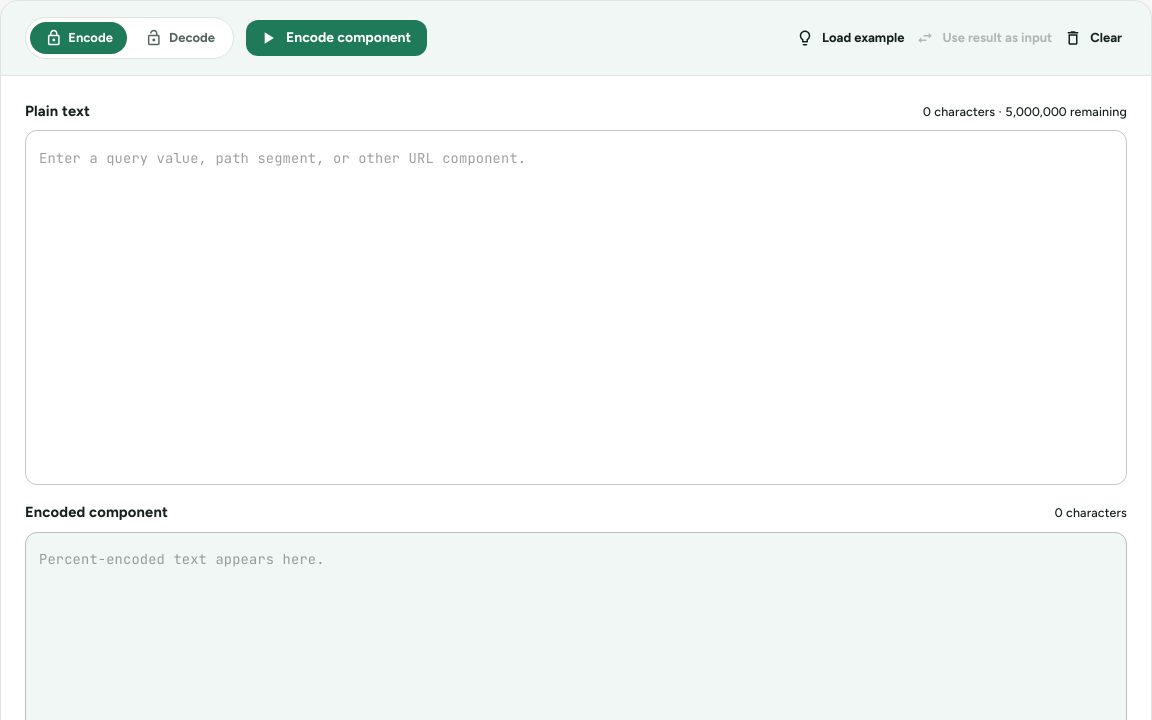
Scenario: UrlEncoderDecoderTool › decodes a result after reversing direction
Type "a/b" into the text box labelled "Plain text". click: coordinates (576, 308)
box: [39,147,1113,469]
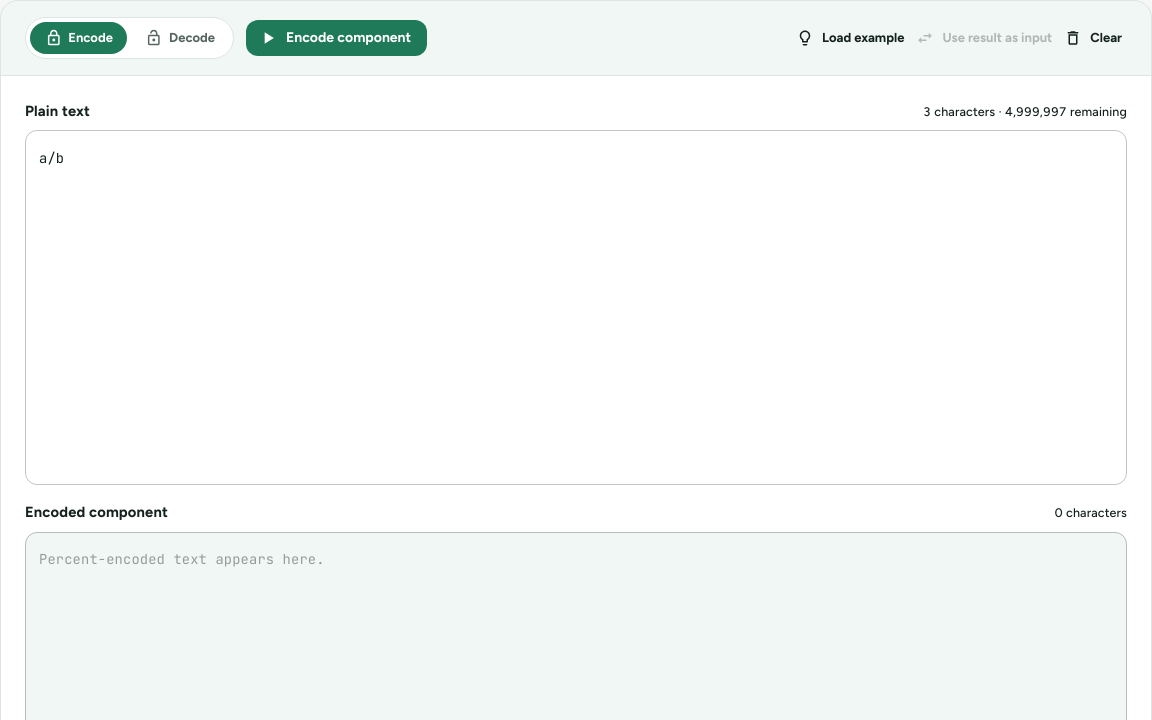
Click the button "Encode component". click: coordinates (337, 38)
box: [246,20,427,56]
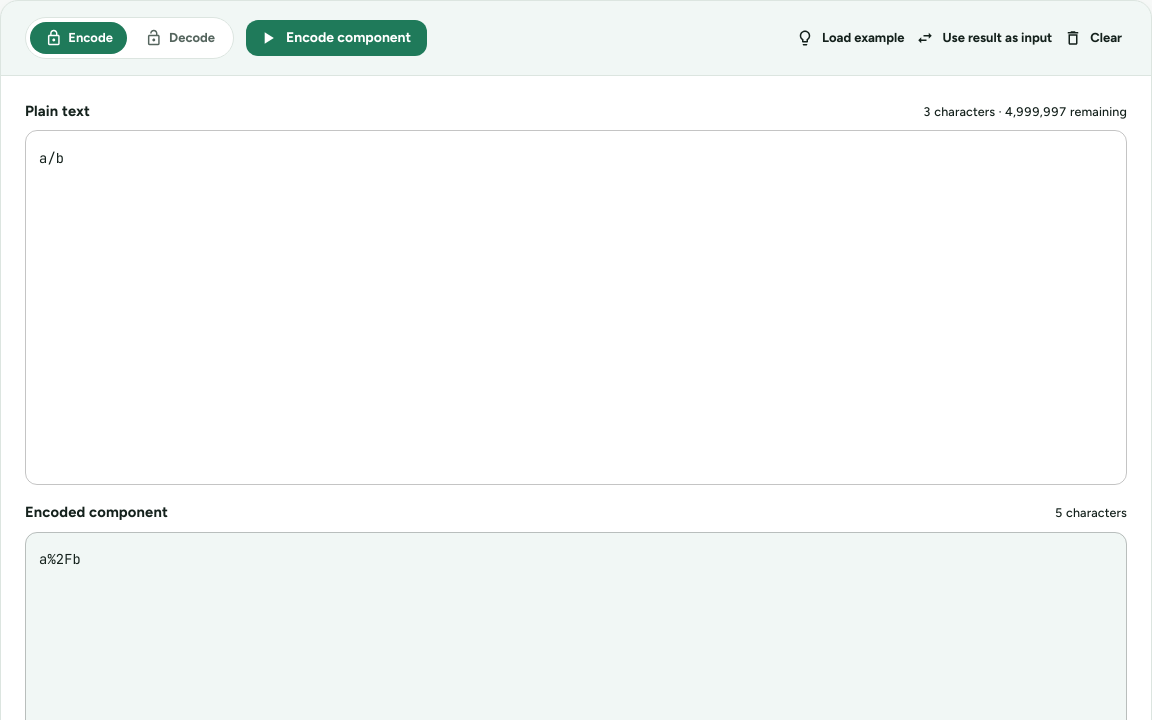
Click the button "Use result as input". click: coordinates (985, 38)
box: [913,23,1057,54]
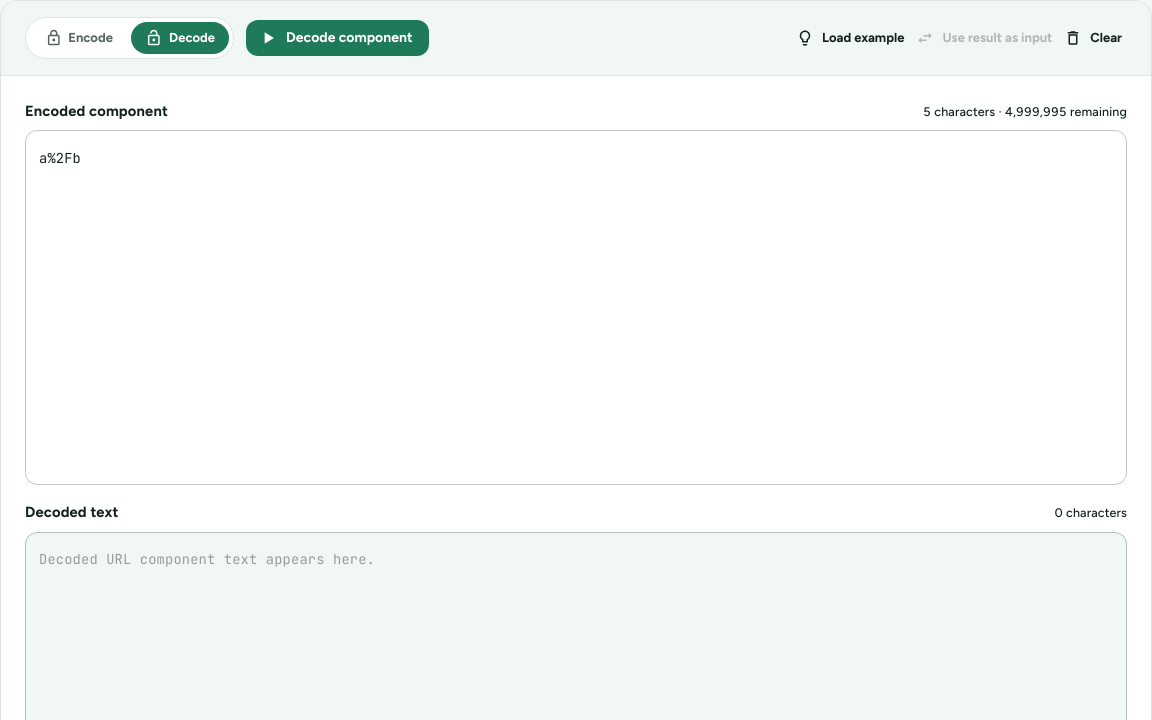
Click the button "Decode component". click: coordinates (337, 38)
box: [246,20,429,56]
(page scrolled)
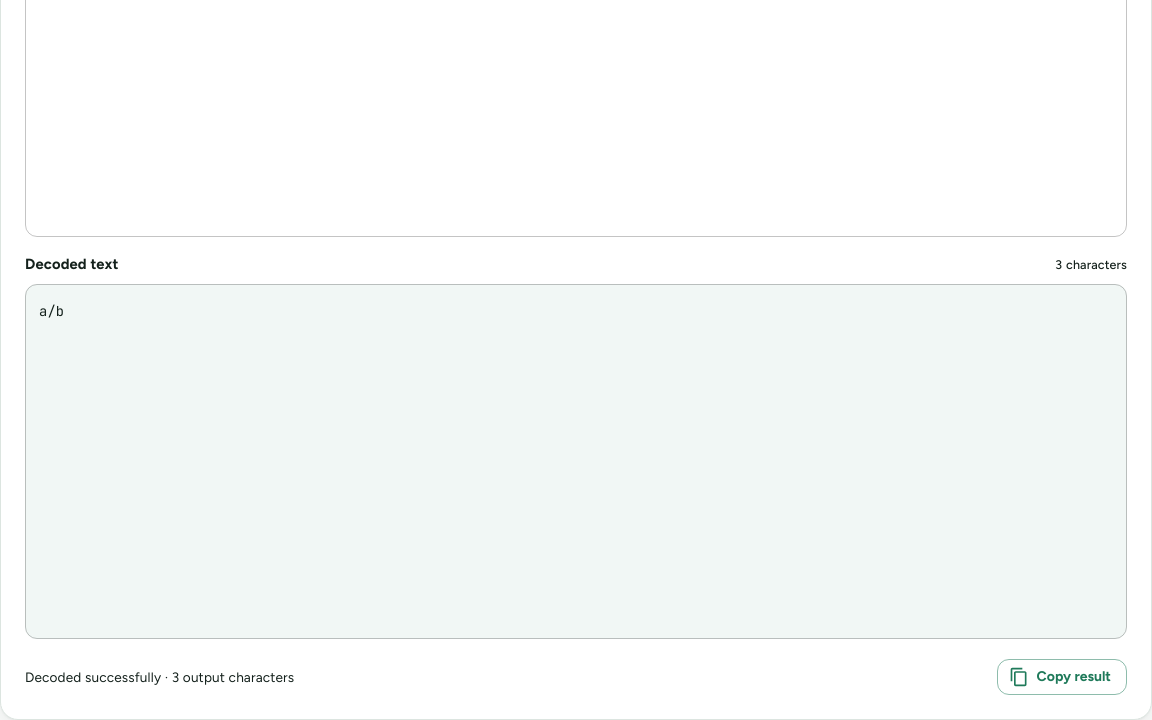
Check: the text box labelled "Decoded text" holds "a/b", box [39,300,1113,622]
